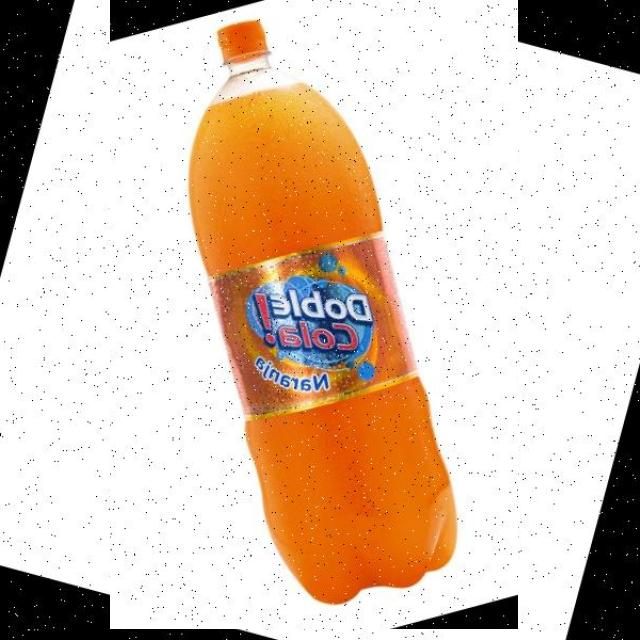doble cola naranja: (110, 0, 518, 629)
